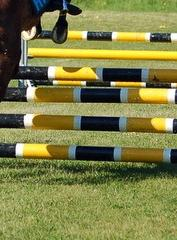horse: (0, 0, 81, 187)
person: (0, 0, 68, 44)
